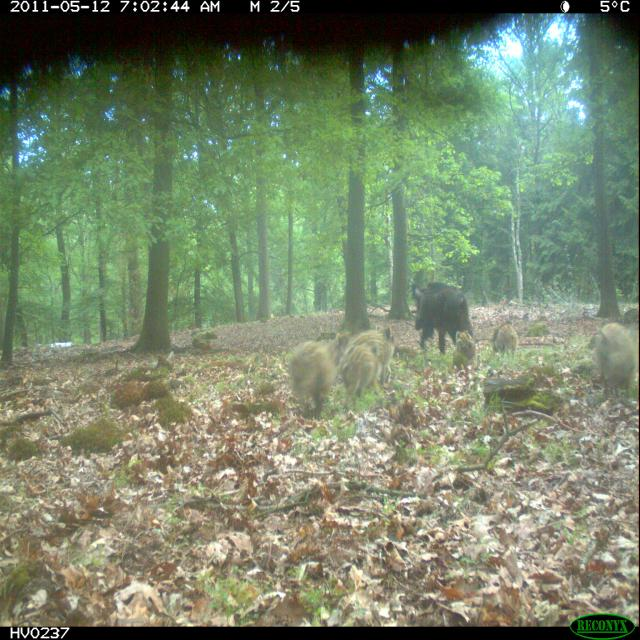boar: (383, 251, 513, 391), (575, 304, 640, 412), (333, 311, 402, 396), (284, 333, 344, 419), (486, 311, 537, 374), (440, 325, 490, 375)
